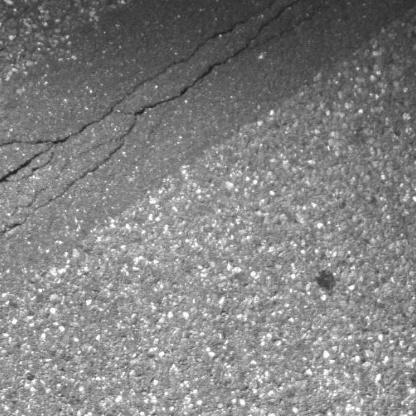Cracks: (0, 0, 321, 256)
